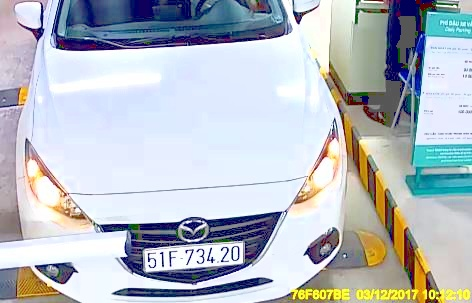plate: (135, 239, 249, 268)
